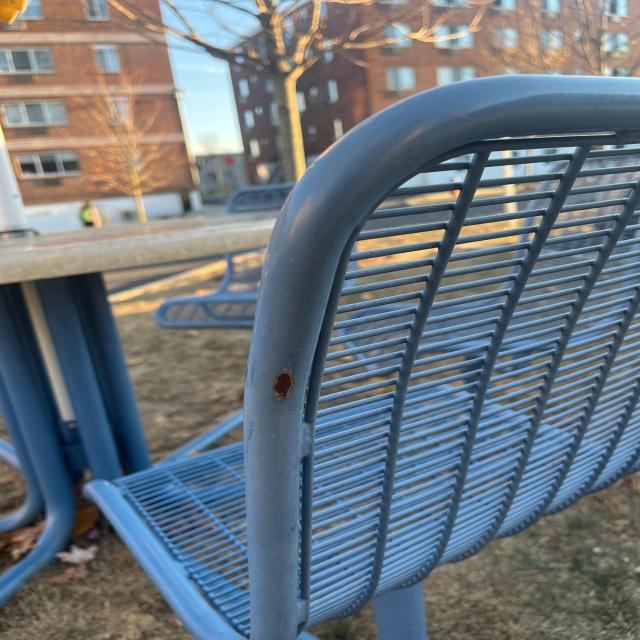Filiform Corrosion: (273, 372, 295, 403)
